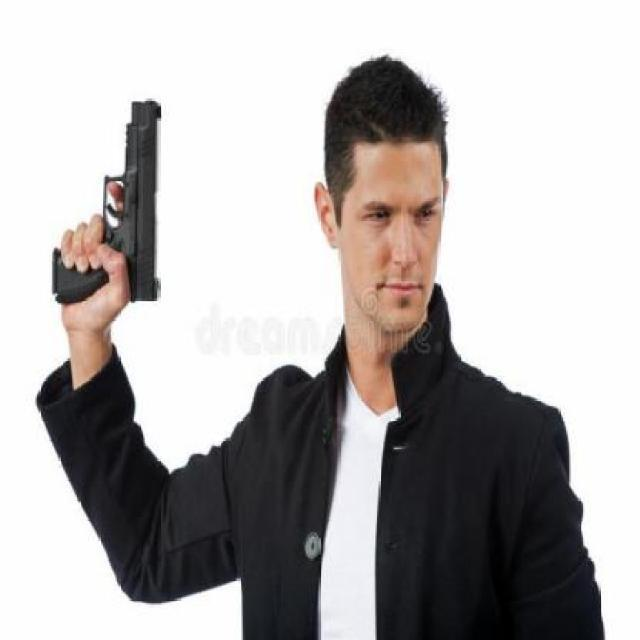gun: (49, 98, 160, 300)
